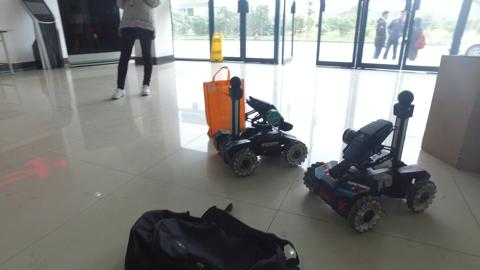chariot: (302, 85, 436, 231), (218, 78, 306, 176)
